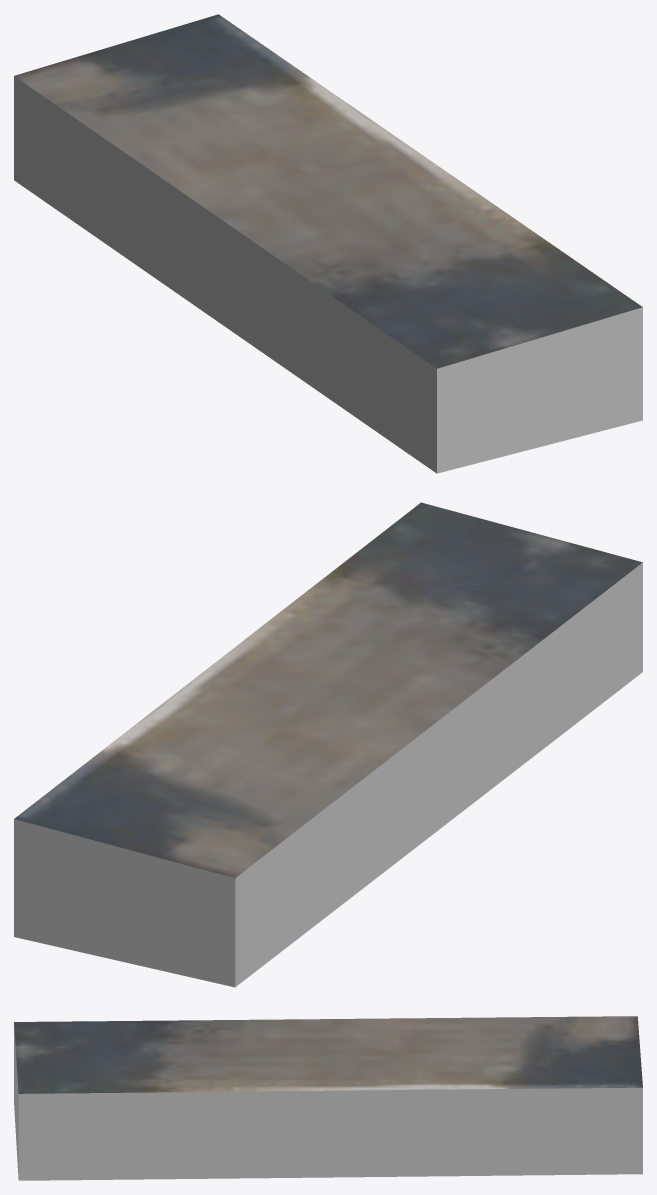
File: DEBW_0010007Txig.gltf
3 views of the same model, one above another, from view 1: azimuth 30°, elevation 25°; view 2: azimuth 150°, elevation 25°; view 3: azimuth 270°, elevation 25° (orthographic). The views are drawn at different scales.
Parts seen in each view (by area): view 1: Z_UP; view 2: Z_UP; view 3: Z_UP.
Boxes of the visible parts, x1,y1,x2,y2 form: Z_UP: (14, 14, 642, 473); Z_UP: (14, 502, 642, 987); Z_UP: (14, 1016, 642, 1180).
Size of the model in its own units: 6.53 by 3.13 by 20.54.
2 materials, 1 textured.
